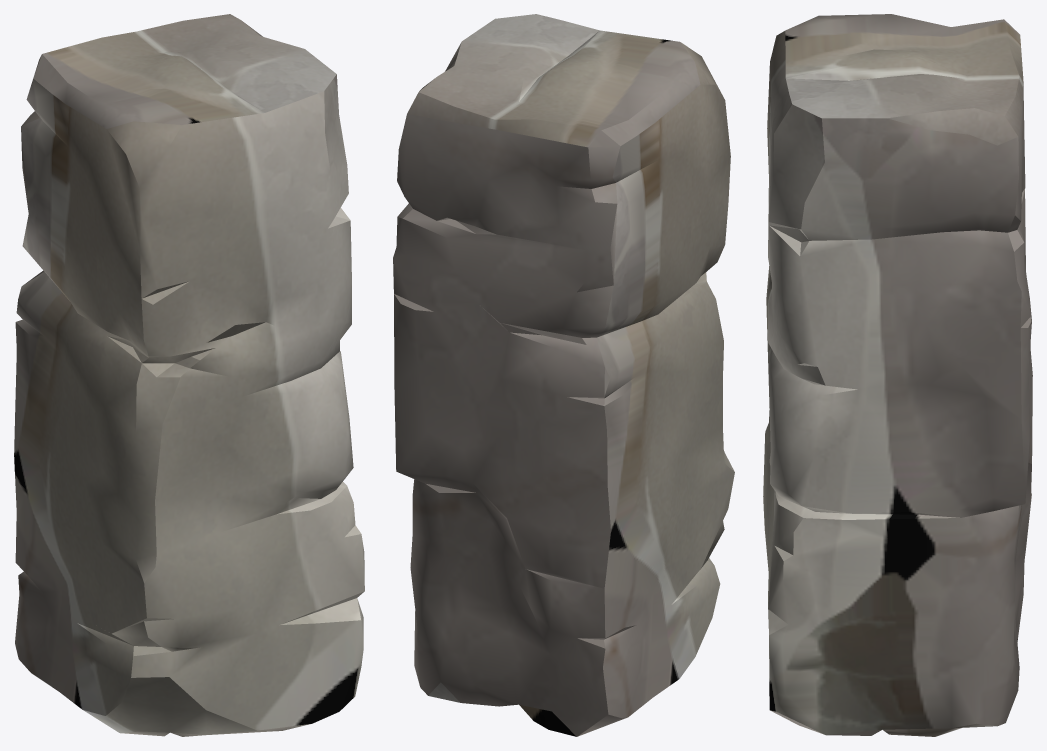
The model's file is blocky_tall01.obj.
The picture shows the model from 3 angles, left to right: view 1: azimuth 30°, elevation 25°; view 2: azimuth 150°, elevation 25°; view 3: azimuth 270°, elevation 25°; orthographic projection. The views are drawn at different scales.
Parts seen in each view (by area): view 1: group.002; view 2: group.002; view 3: group.002.
Boxes of the visible parts, bbox=[...] form: group.002: bbox=[14, 14, 364, 736]; group.002: bbox=[393, 14, 734, 736]; group.002: bbox=[763, 14, 1032, 736].
Bounding box in the file's own units: 141 × 364 × 142.
